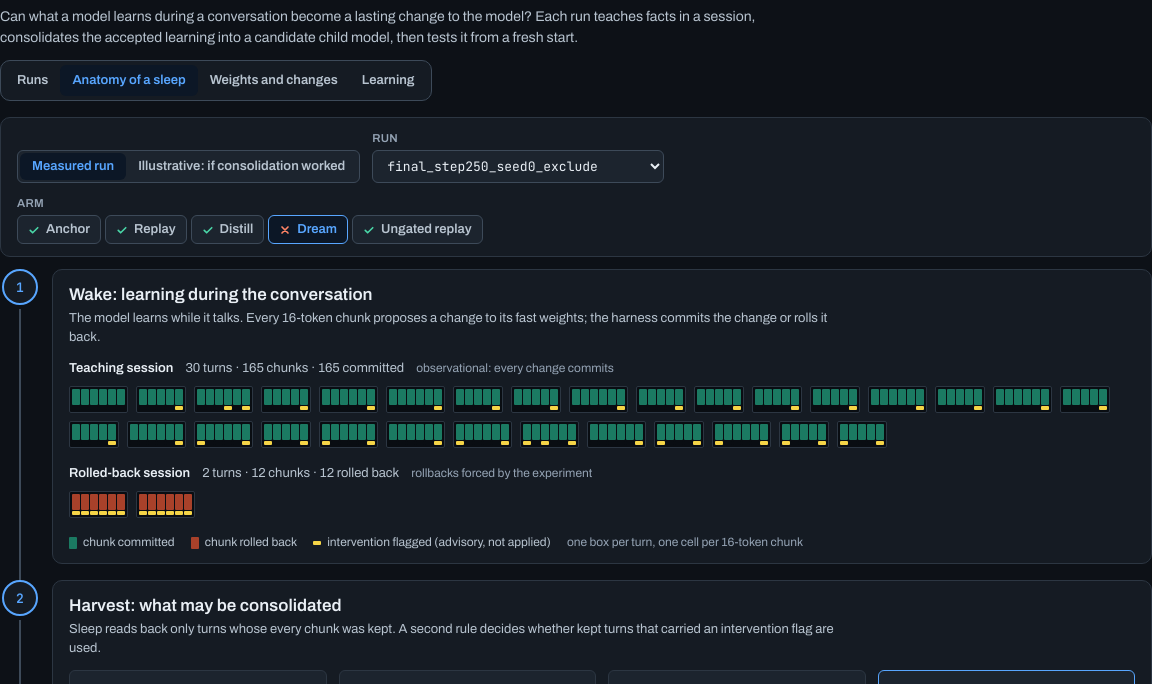
Test case: anatomy of a sleep › labels every stage of the illustrative mode and none of the measured one
Click the button "Illustrative: if consolidation worked" at (242, 166), box [126,153,357,180]
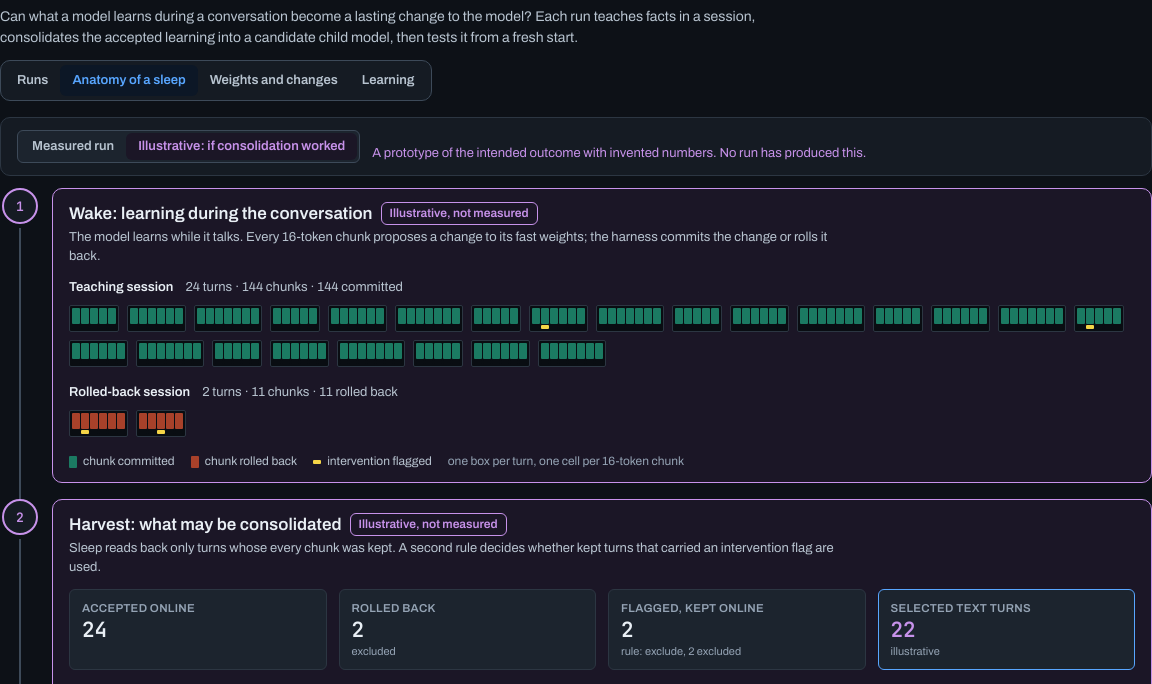
Result: the text "Illustrative, not measured" is shown 5 times
Result: the text "invented numbers" is shown at [372,146,866,160]
Click the button "Measured run" at (73, 146), box [20,133,126,160]
(page scrolled)
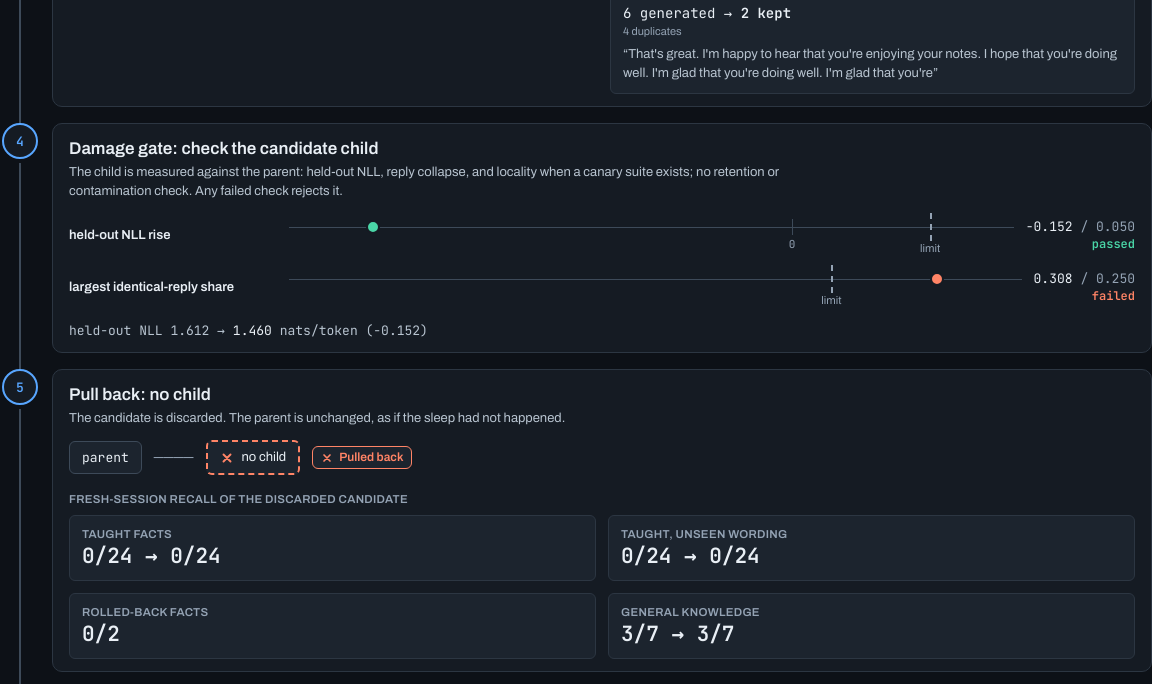
Result: the heading "Pull back: no child" is shown at [69,382,211,407]
Result: the text "Illustrative, not measured" is not shown
